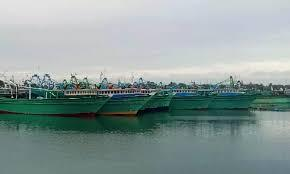fishing boat: (0, 72, 115, 118)
